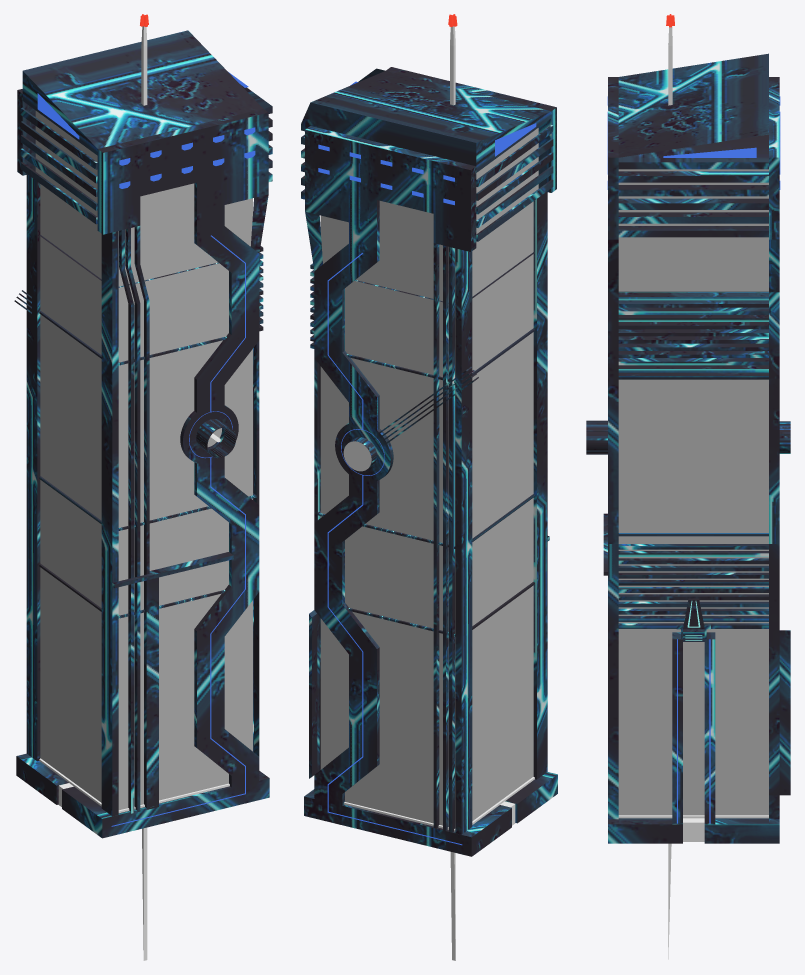
The model's file is building2.gltf.
3 renders of one model, left to right at view 1: azimuth 30°, elevation 25°; view 2: azimuth 150°, elevation 25°; view 3: azimuth 270°, elevation 25°, orthographic.
Visible parts, largest first — view 1: 0_curve_, 0_curve_.036, 0_curve_.037, Plane.056, 0_curve_.035, 0_curve_.016, Cube, 0_curve_.045, 0_curve_.041, 0_curve_.044, 0_curve_.043; view 2: 0_curve_, 0_curve_.037, 0_curve_.036, 0_curve_.034, Plane.056, 0_curve_.016, 0_curve_.038, 0_curve_.041, 0_curve_.045, 0_curve_.043, 0_curve_.044, Cube.001; view 3: 0_curve_, 0_curve_.036, 0_curve_.037, 0_curve_.018, 0_curve_.014, Plane.056, 0_curve_.044, 0_curve_.015, 0_curve_.021, 0_curve_.041.
Part boxes in pixels (bbox=[...]): 0_curve_: bbox=[35, 111, 252, 810]; 0_curve_.036: bbox=[20, 30, 272, 838]; 0_curve_.037: bbox=[14, 89, 68, 804]; Plane.056: bbox=[140, 14, 148, 960]; 0_curve_.035: bbox=[111, 235, 245, 826]; 0_curve_.016: bbox=[22, 71, 97, 155]; Cube: bbox=[119, 127, 255, 188]; 0_curve_.045: bbox=[39, 310, 226, 365]; 0_curve_.041: bbox=[39, 758, 229, 813]; 0_curve_.044: bbox=[39, 476, 256, 530]; 0_curve_.043: bbox=[39, 563, 225, 618]; 0_curve_: bbox=[320, 128, 538, 828]; 0_curve_.037: bbox=[304, 126, 511, 856]; 0_curve_.036: bbox=[301, 67, 557, 823]; 0_curve_.034: bbox=[327, 253, 462, 845]; Plane.056: bbox=[448, 14, 457, 960]; 0_curve_.016: bbox=[476, 111, 551, 172]; 0_curve_.038: bbox=[343, 441, 371, 471]; 0_curve_.041: bbox=[344, 777, 534, 831]; 0_curve_.045: bbox=[347, 328, 534, 382]; 0_curve_.043: bbox=[348, 582, 534, 636]; 0_curve_.044: bbox=[317, 494, 534, 548]; Cube.001: bbox=[318, 144, 454, 205]; 0_curve_: bbox=[618, 169, 768, 815]; 0_curve_.036: bbox=[586, 53, 768, 843]; 0_curve_.037: bbox=[676, 77, 790, 843]; 0_curve_.018: bbox=[704, 639, 715, 823]; 0_curve_.014: bbox=[618, 134, 768, 162]; Plane.056: bbox=[666, 14, 674, 959]; 0_curve_.044: bbox=[618, 533, 768, 536]; 0_curve_.015: bbox=[663, 147, 756, 157]; 0_curve_.021: bbox=[683, 818, 704, 841]; 0_curve_.041: bbox=[618, 815, 768, 818].
Bounding box in the file's own units: 3.45 × 16.56 × 3.24.
